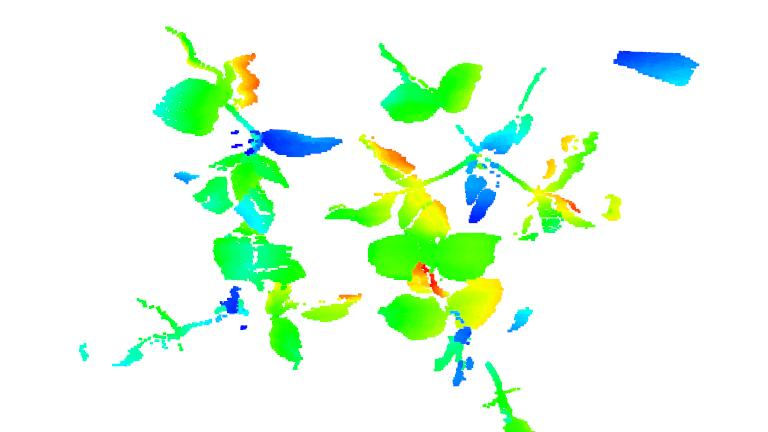mungbean: (342, 38, 600, 234), (144, 18, 345, 234), (110, 221, 373, 372), (365, 217, 537, 432)
